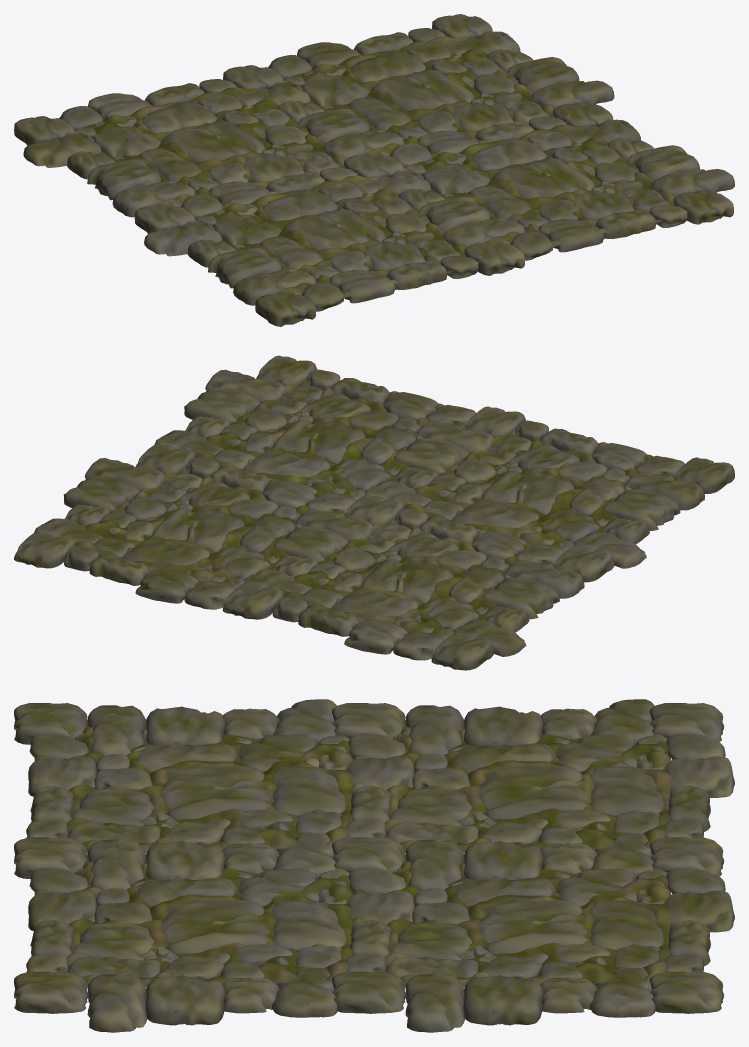
File: rocky_ground_with_moss-v1.glb
3 renders of one model, top to bottom at view 1: azimuth 30°, elevation 25°; view 2: azimuth 150°, elevation 25°; view 3: azimuth 270°, elevation 25°, orthographic. The views are drawn at different scales.
Parts seen in each view (by area): view 1: ground; view 2: ground; view 3: ground.
Boxes of the visible parts, box(x1,y1,x2,y2) form: ground: box(14, 14, 734, 326); ground: box(14, 355, 734, 670); ground: box(14, 699, 734, 1032).
Size of the model in its own units: 19.42 by 0.5902 by 18.15.
1 material, 1 textured.
